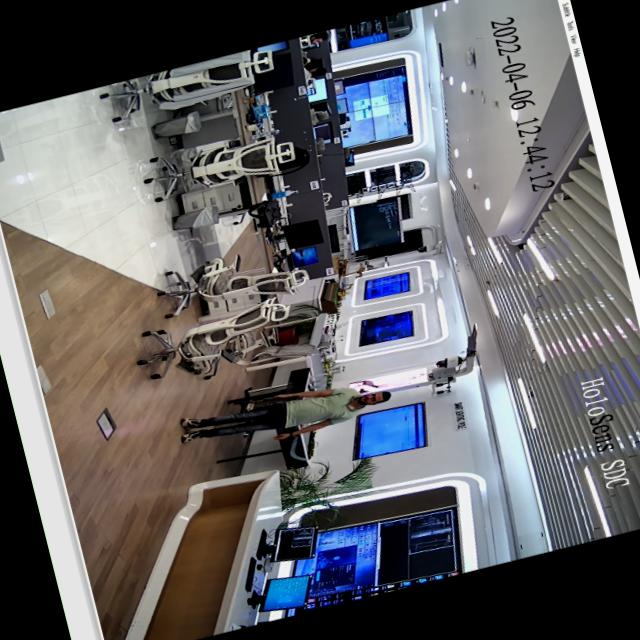long weapon: (220, 379, 306, 419)
